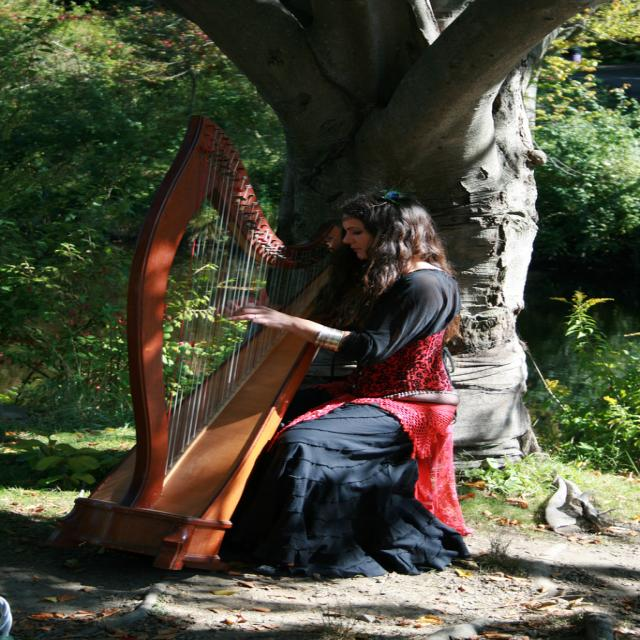harp: (44, 113, 352, 573)
